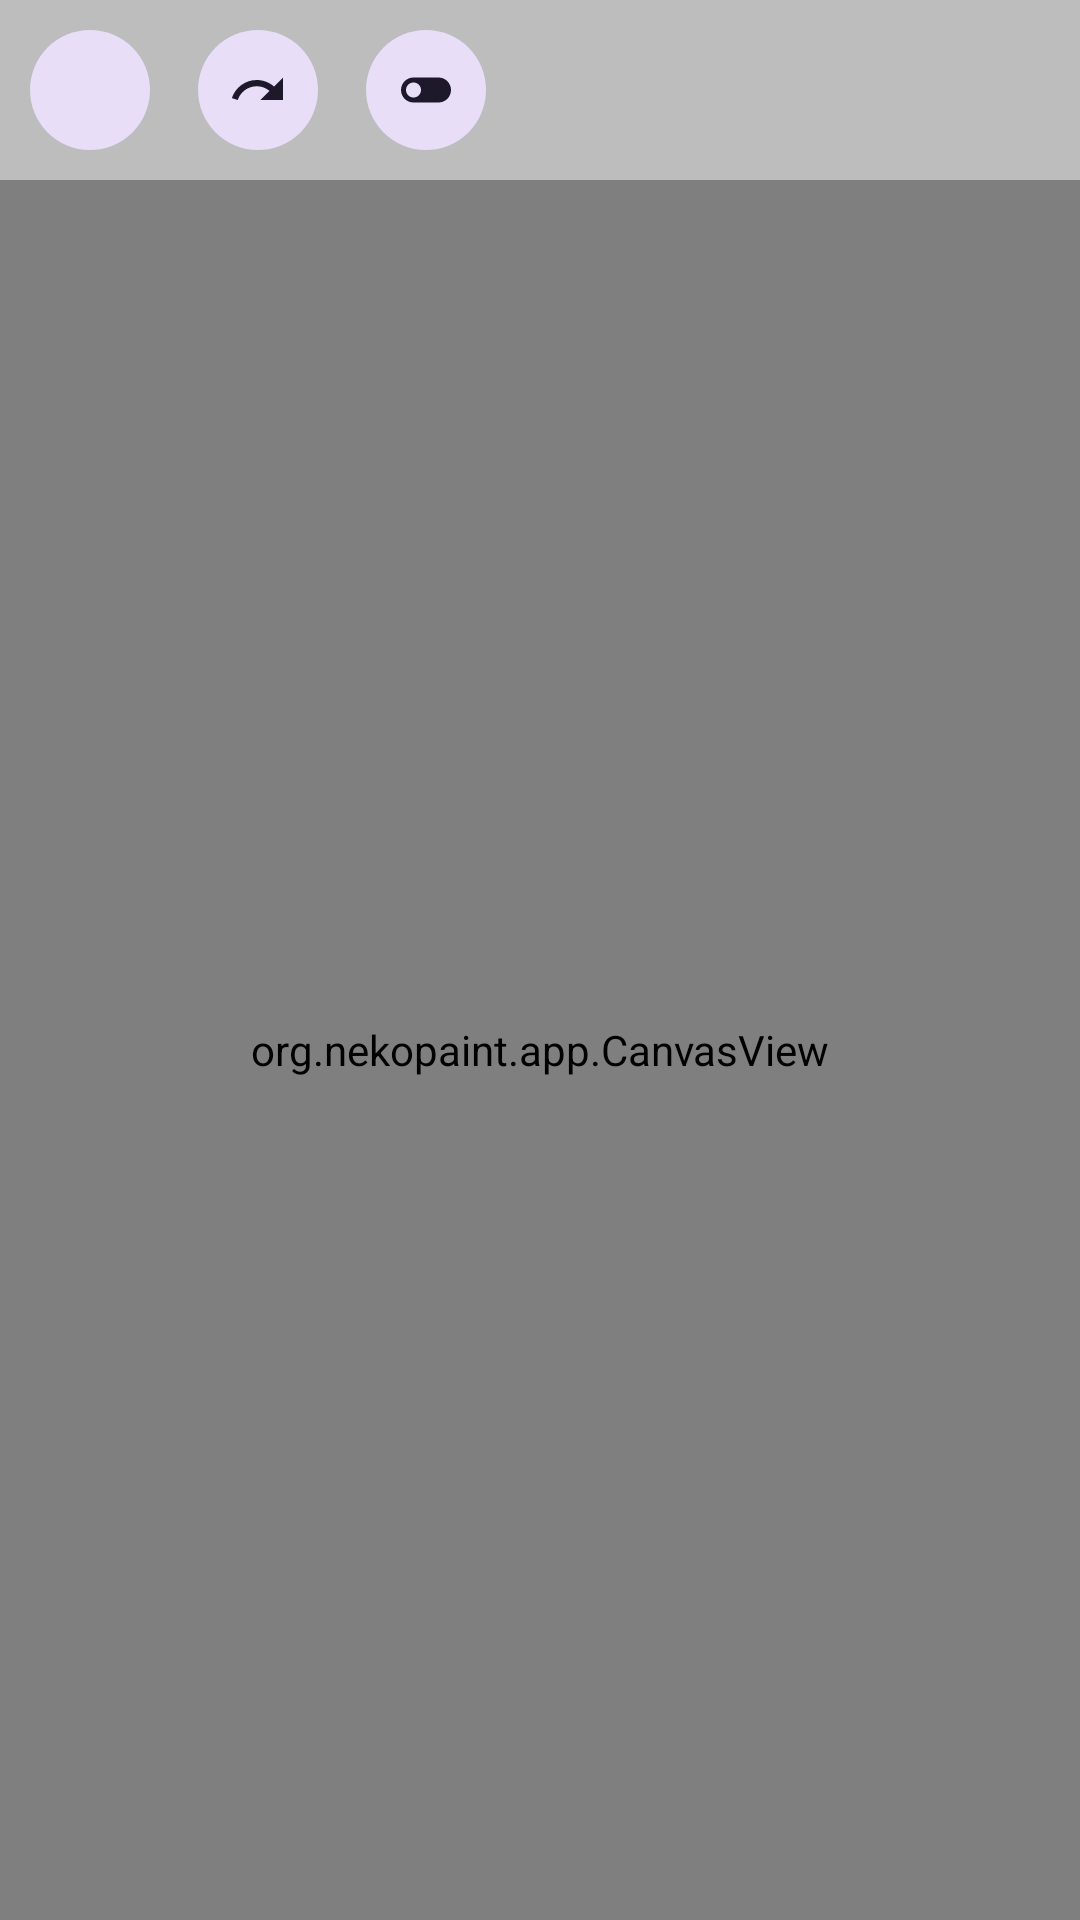

Screen size 1080w x 1920h. Icon name, then its center in pixels as [x,y]:
Redo: [258,90]
Toggles: [426,90]
